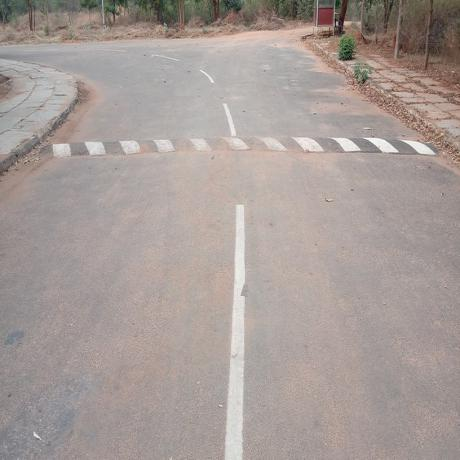Speed Bump: (43, 132, 441, 162)
